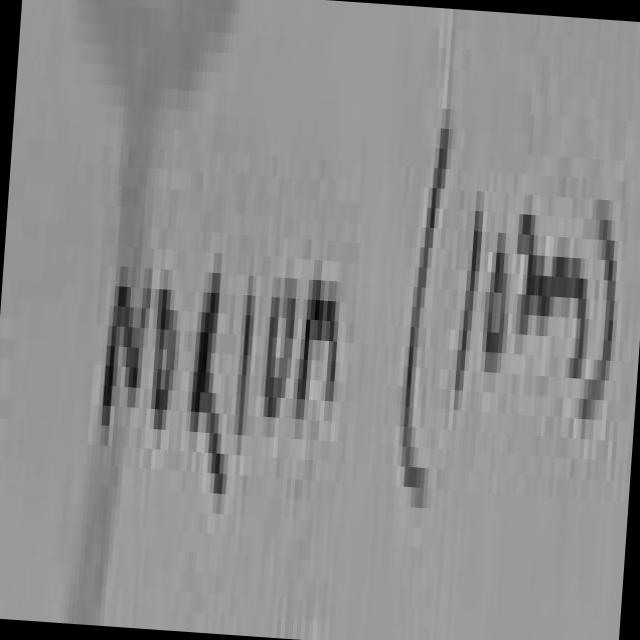0: (475, 225, 517, 418)
1: (437, 159, 492, 446)
I: (226, 209, 269, 487)
M: (288, 175, 358, 488)
N: (76, 223, 160, 500)
O: (143, 253, 190, 468)
R: (177, 222, 244, 517)
U: (253, 218, 305, 478)
g: (558, 222, 601, 408)
m: (498, 160, 570, 392)
